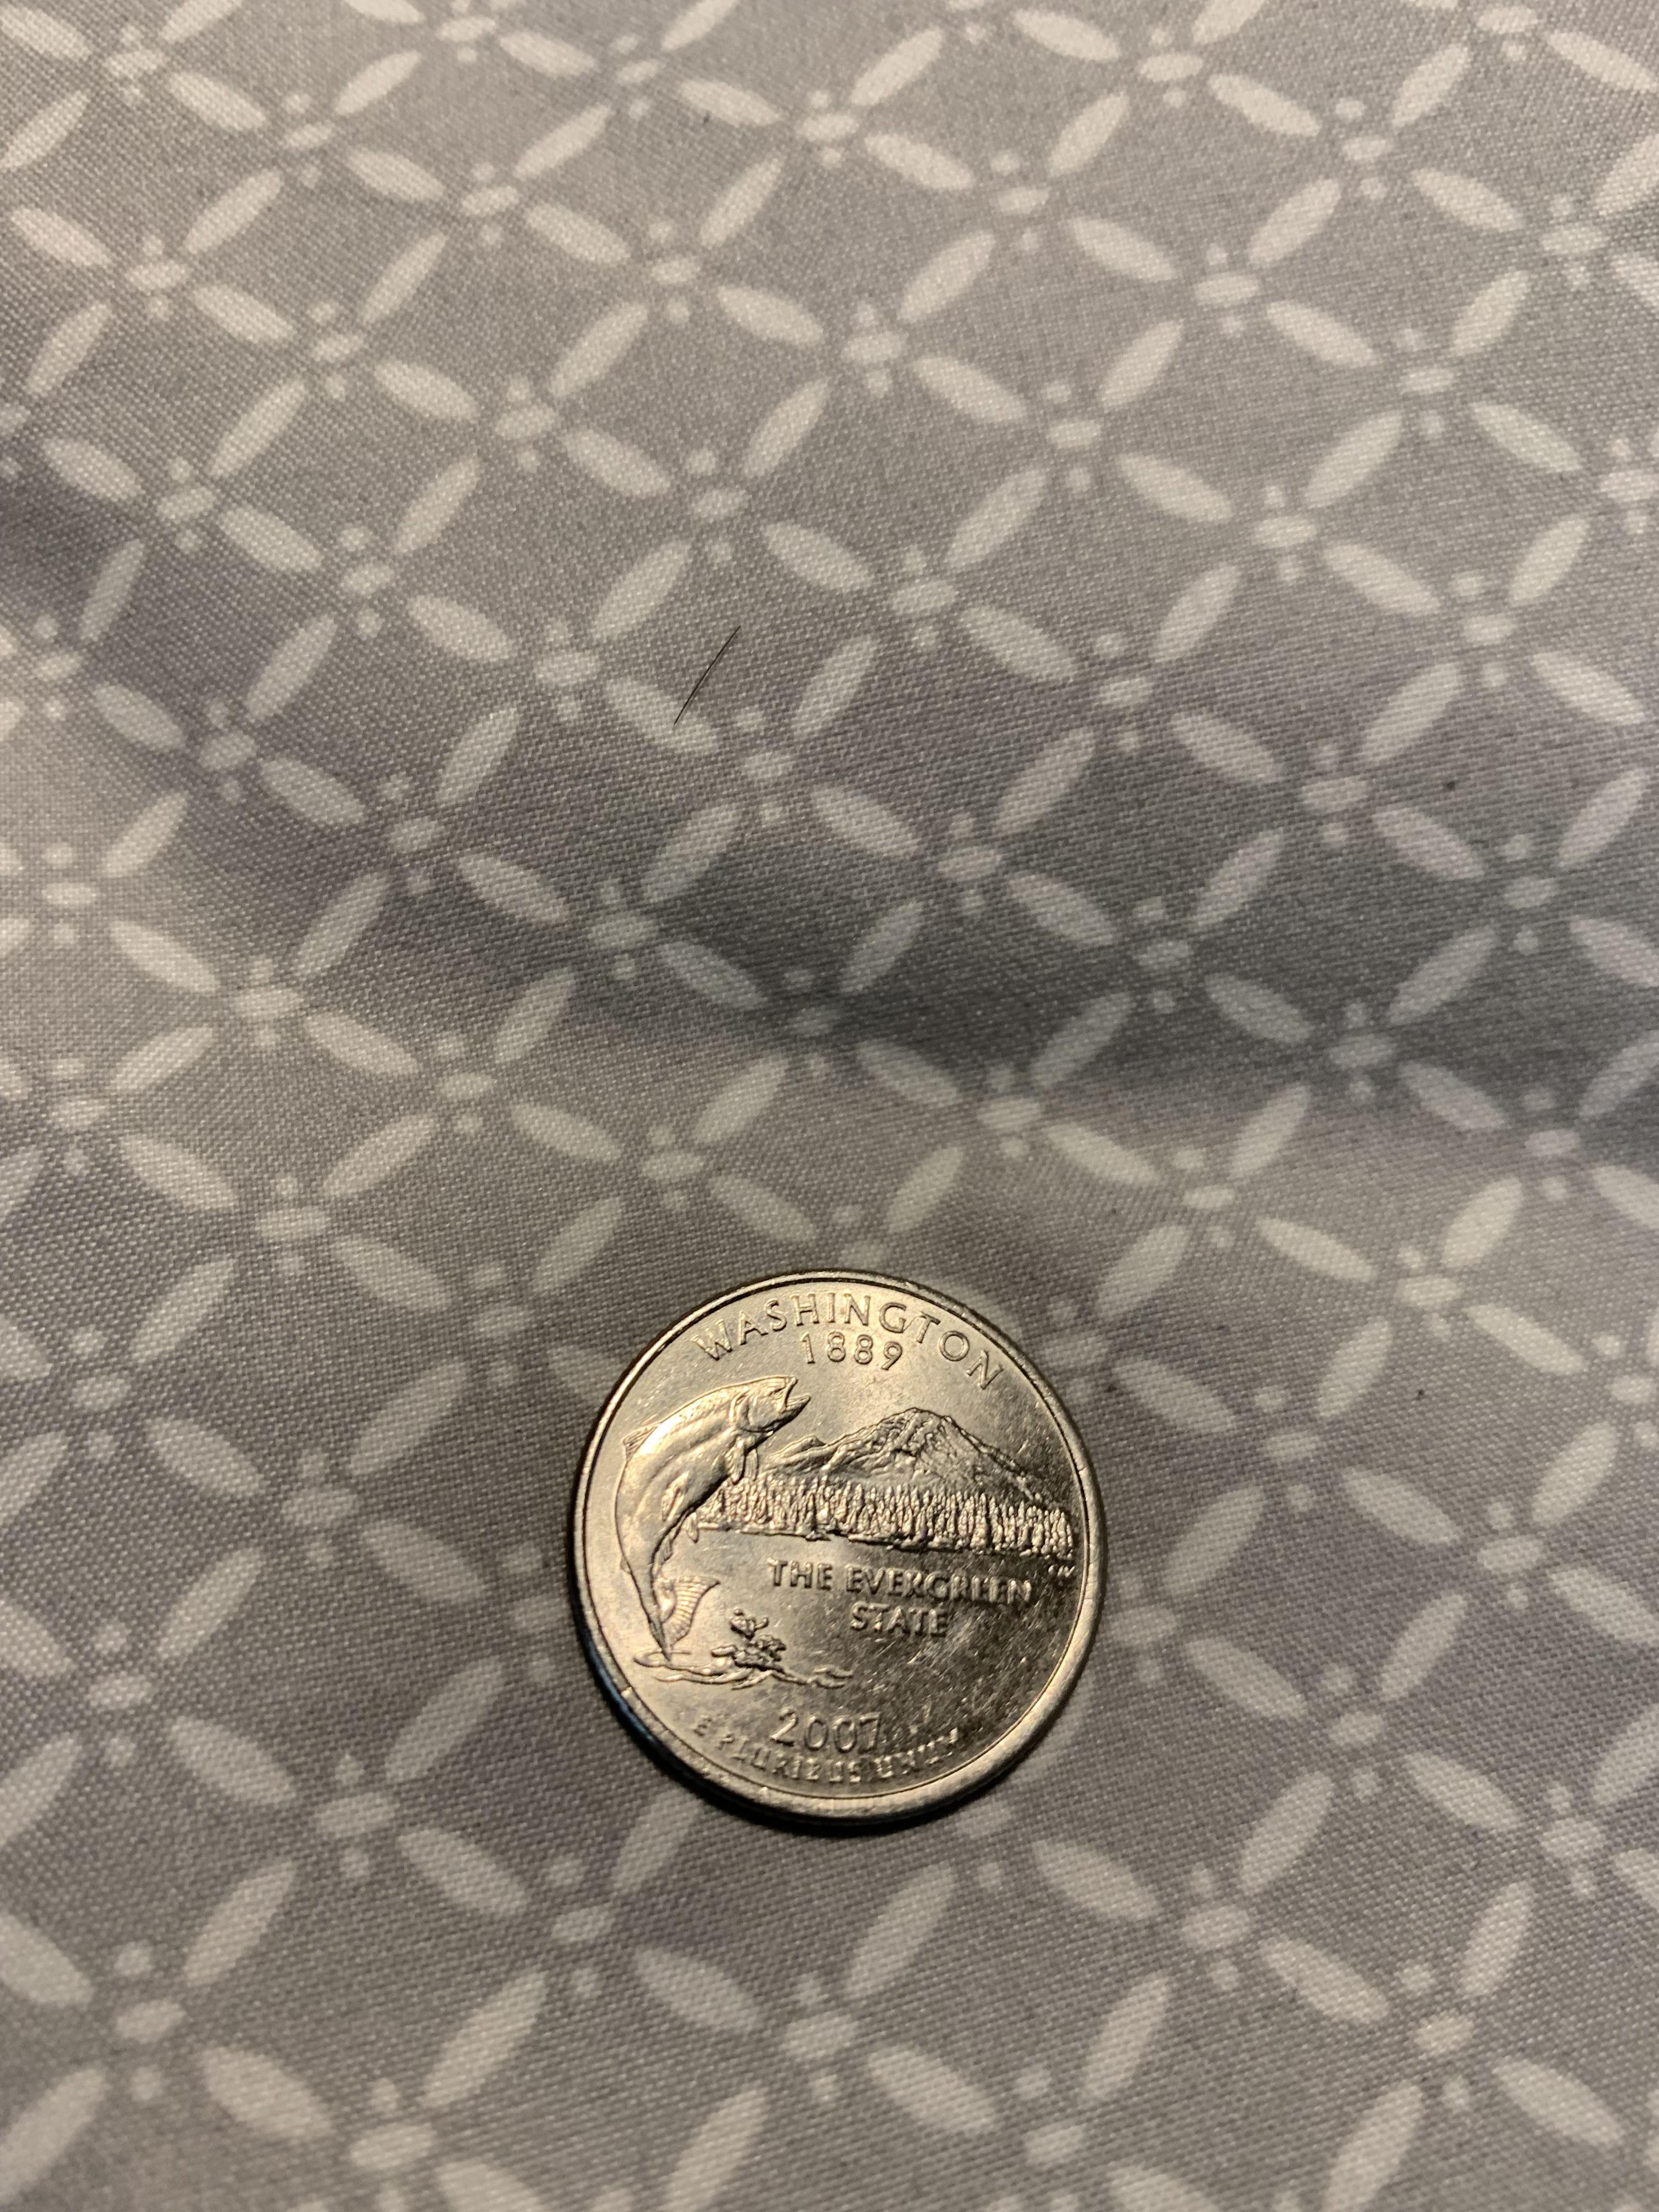Quarter: (537, 1242, 1136, 1851)
